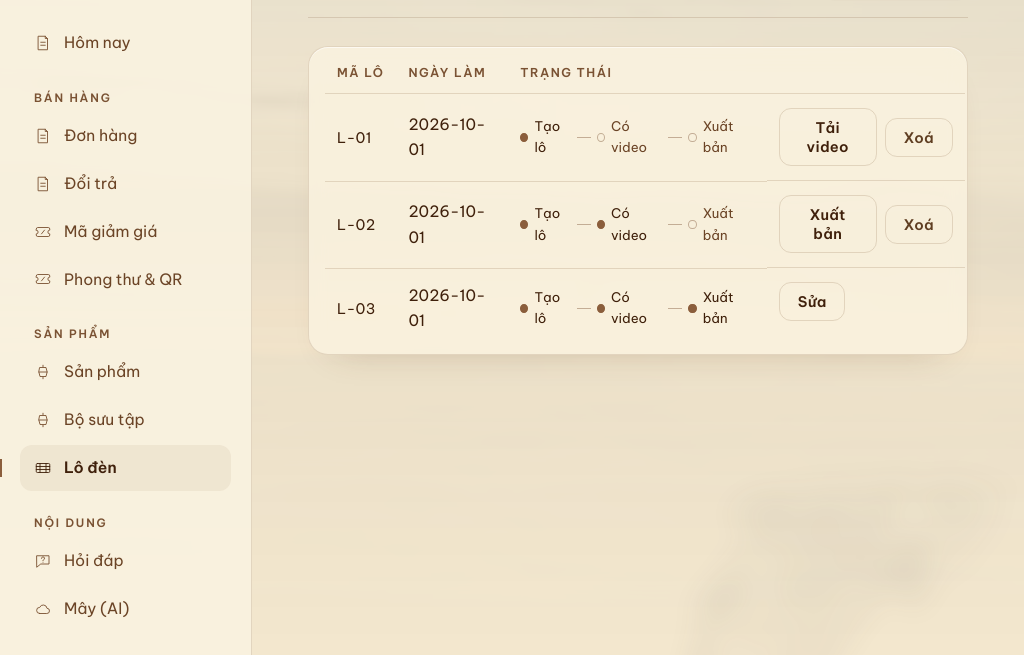
Test: Lô › bấm nút hành động mở biểu mẫu và bảng video trong aside
The image size is (1024, 655).
Click the button "Tải video" at (828, 137), box [779,108,877,166]
(page scrolled)
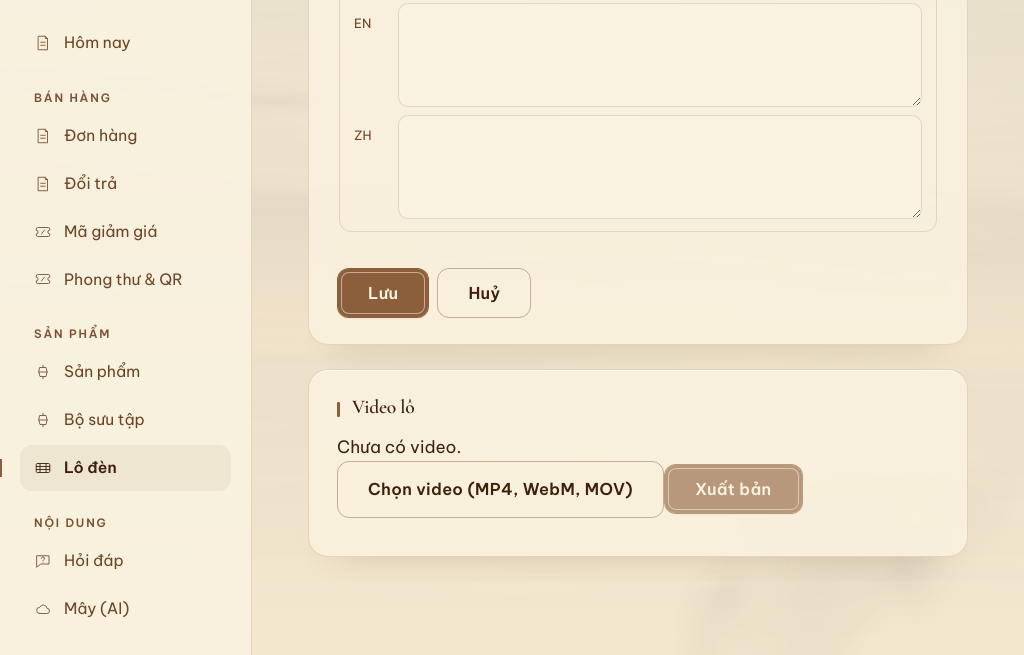
expect the file field "Chọn video (MP4, WebM, MOV)" is shown: met, box [337,461,664,518]
